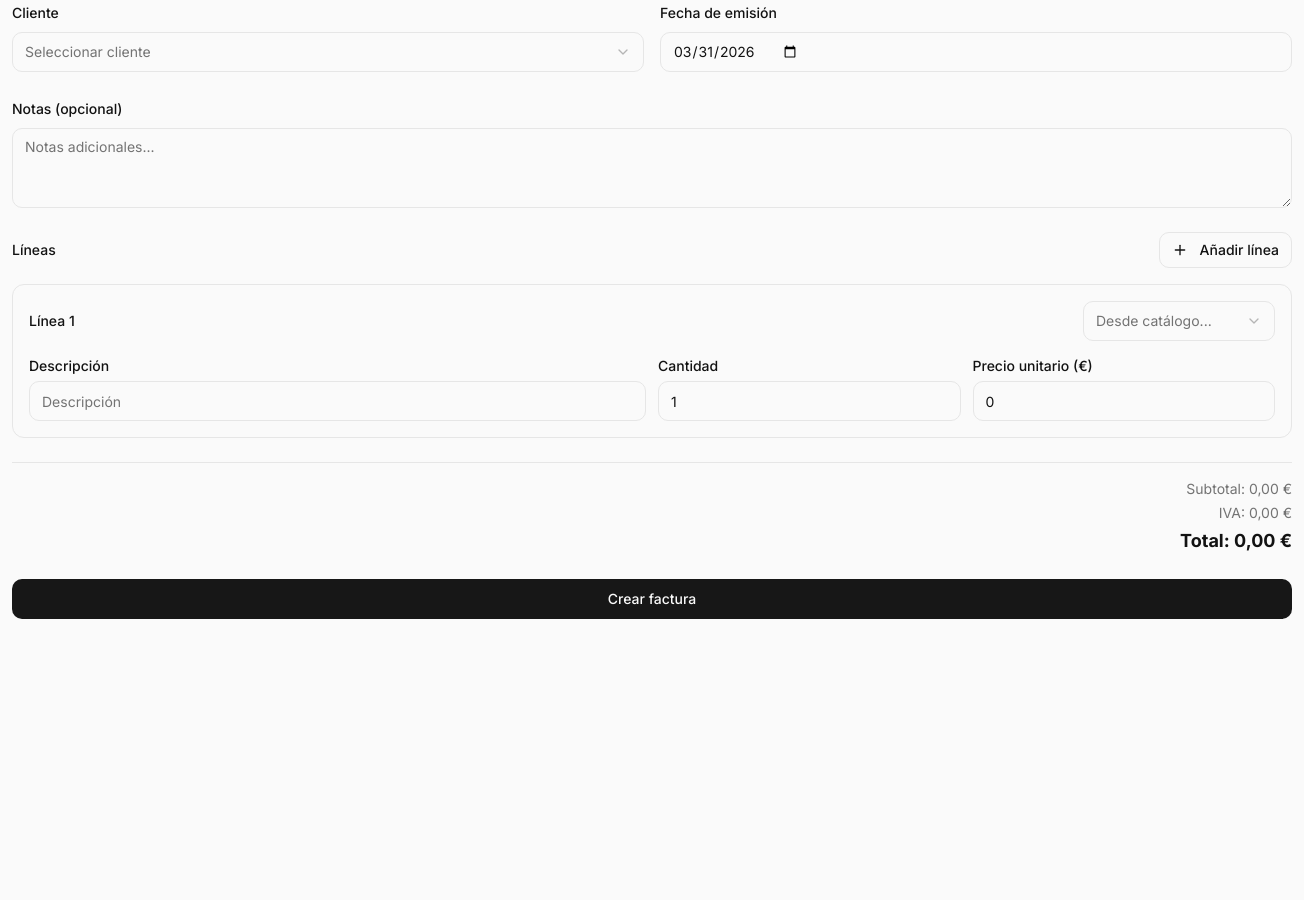
Test: InvoiceForm › shows validation errors when submitting with empty required fields
Step 1. Click the button "Crear factura" → (652, 599), box 12,579 -> 1292,619
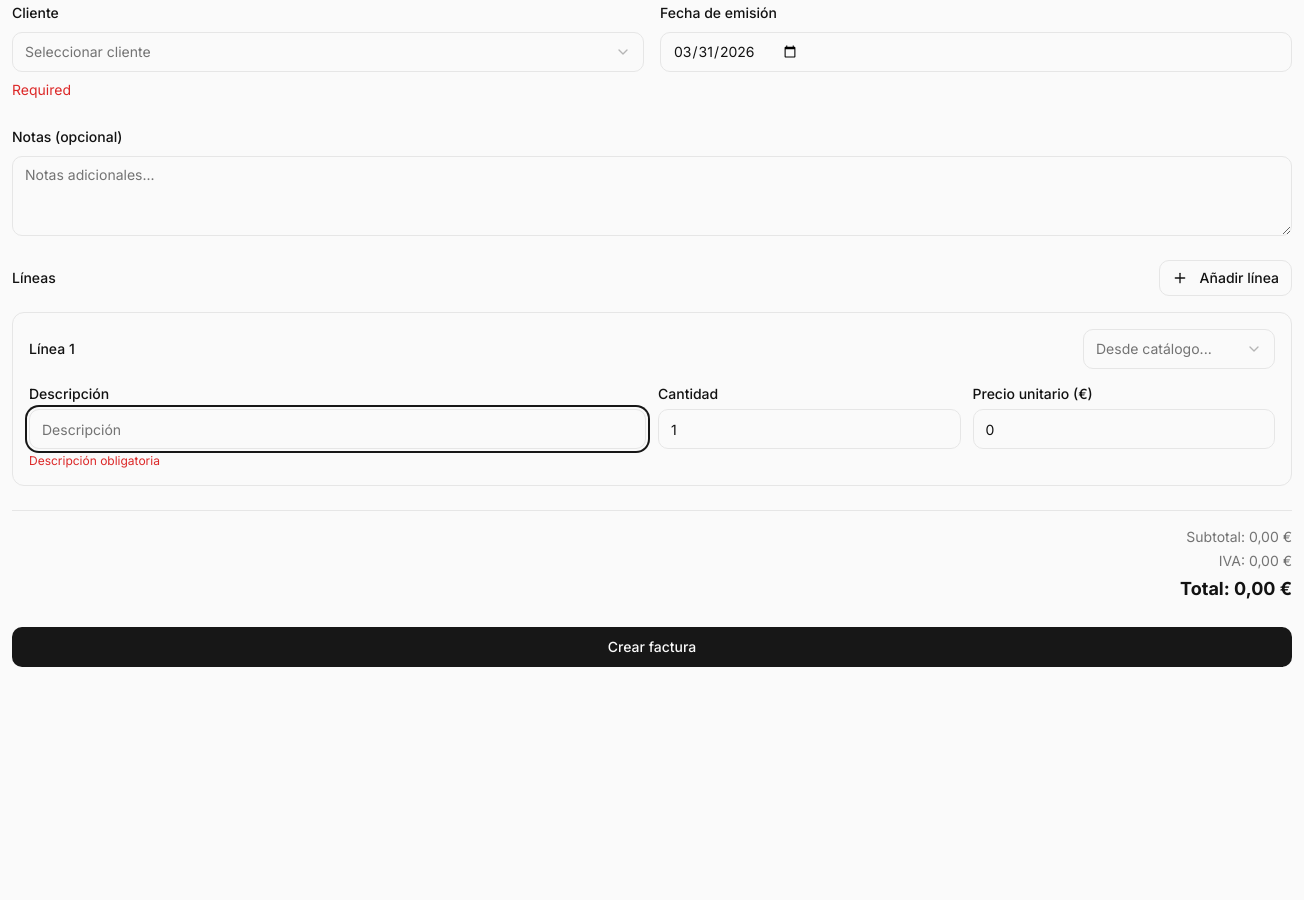
Check: the text "Descripción obligatoria" is shown, box 29,453 -> 160,468
